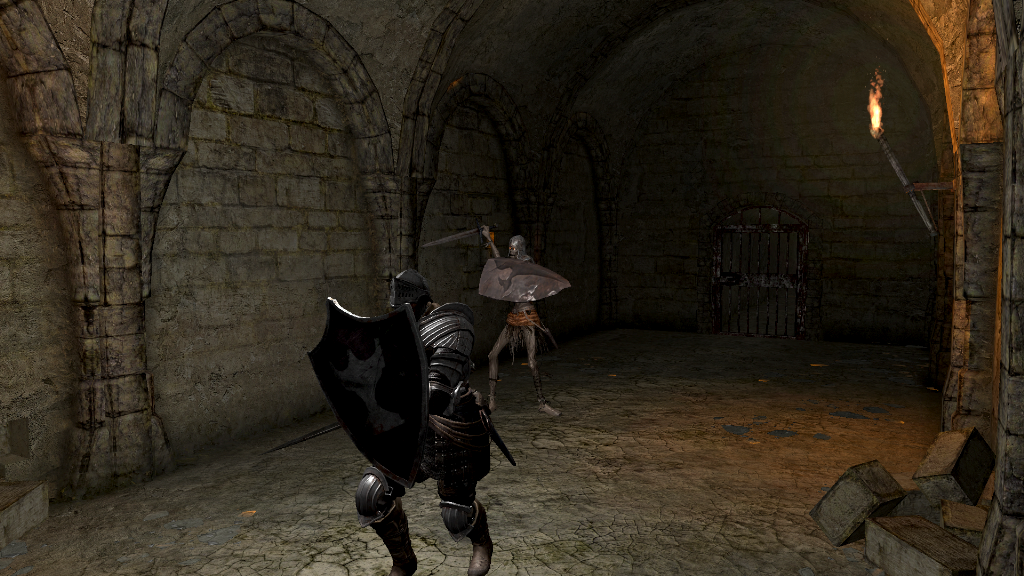player: (265, 266, 495, 576)
undeadSoldier: (480, 223, 566, 421)
